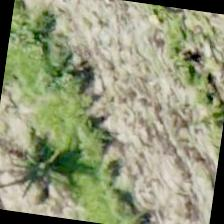Kelapa_Sawit: (0, 111, 87, 213)
